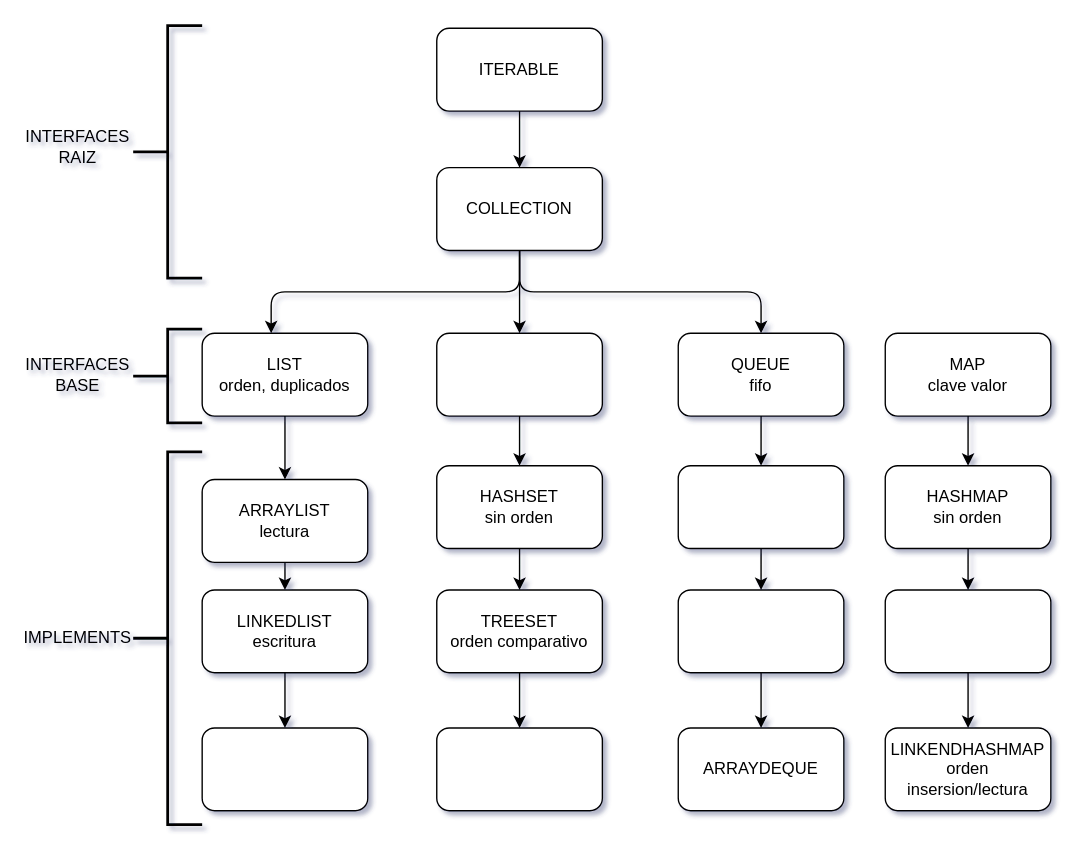
The diagram is 1083 pixels wide and 857 high, and some of its shapes have lost their labels. The shapes that lost their labels are listed below. From the top down, each one's box as (x1, y1, x2, y2) in pixels, then its label:
(435, 332, 602, 416): SET sin orden, sin duplicados
(677, 464, 844, 549): PRIORITYQUEUE
(677, 589, 844, 673): LINKEDLIST
(884, 589, 1051, 673): TREEMAP orden comparativo
(201, 727, 368, 811): STACK lifo
(435, 727, 602, 811): LINKEDHASH SET orden de insercion
